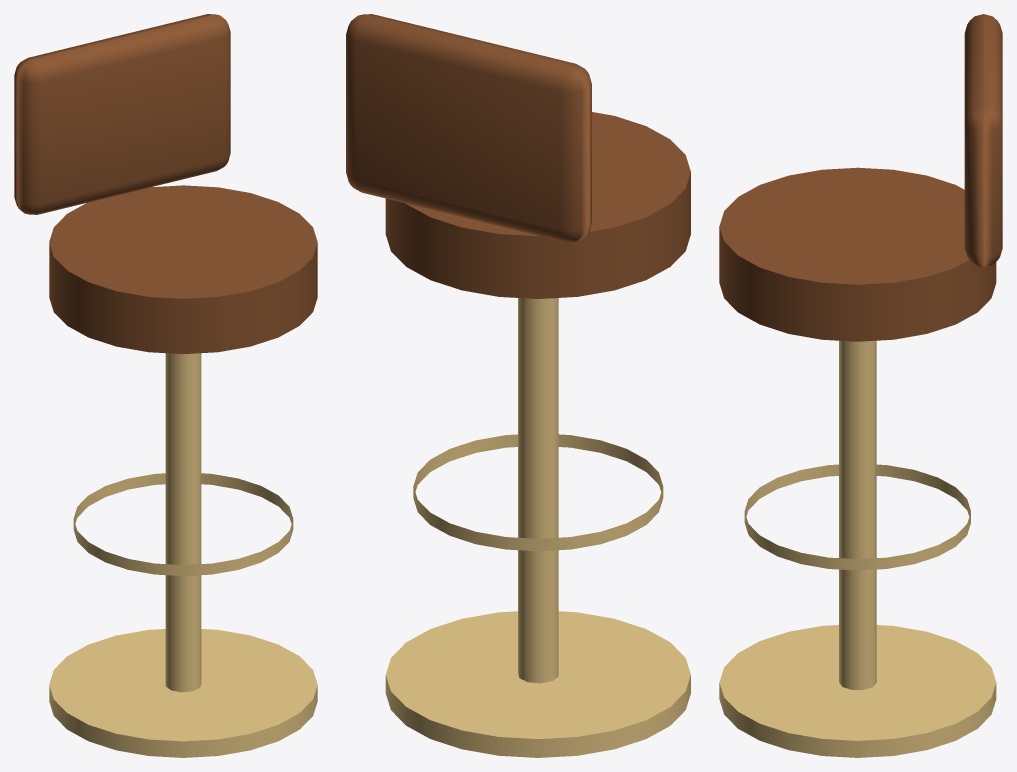
File: fur_bar_stool.glb
3 views of the same model, side by side, from view 1: azimuth 30°, elevation 25°; view 2: azimuth 150°, elevation 25°; view 3: azimuth 270°, elevation 25° (orthographic). The views are drawn at different scales.
Visible parts, largest first — view 1: FUR_bar_stool; view 2: FUR_bar_stool; view 3: FUR_bar_stool.
Boxes of the visible parts, x1,y1,x2,y2 form: FUR_bar_stool: (14, 14, 317, 757); FUR_bar_stool: (346, 14, 690, 757); FUR_bar_stool: (719, 14, 1002, 757).
Size of the model in its own units: 0.44 by 1.12 by 0.45.
